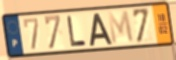7: (132, 7, 151, 45), (44, 14, 63, 52), (21, 17, 40, 52)
A: (89, 12, 114, 48)
L: (66, 15, 88, 48)
M: (106, 9, 136, 46)
